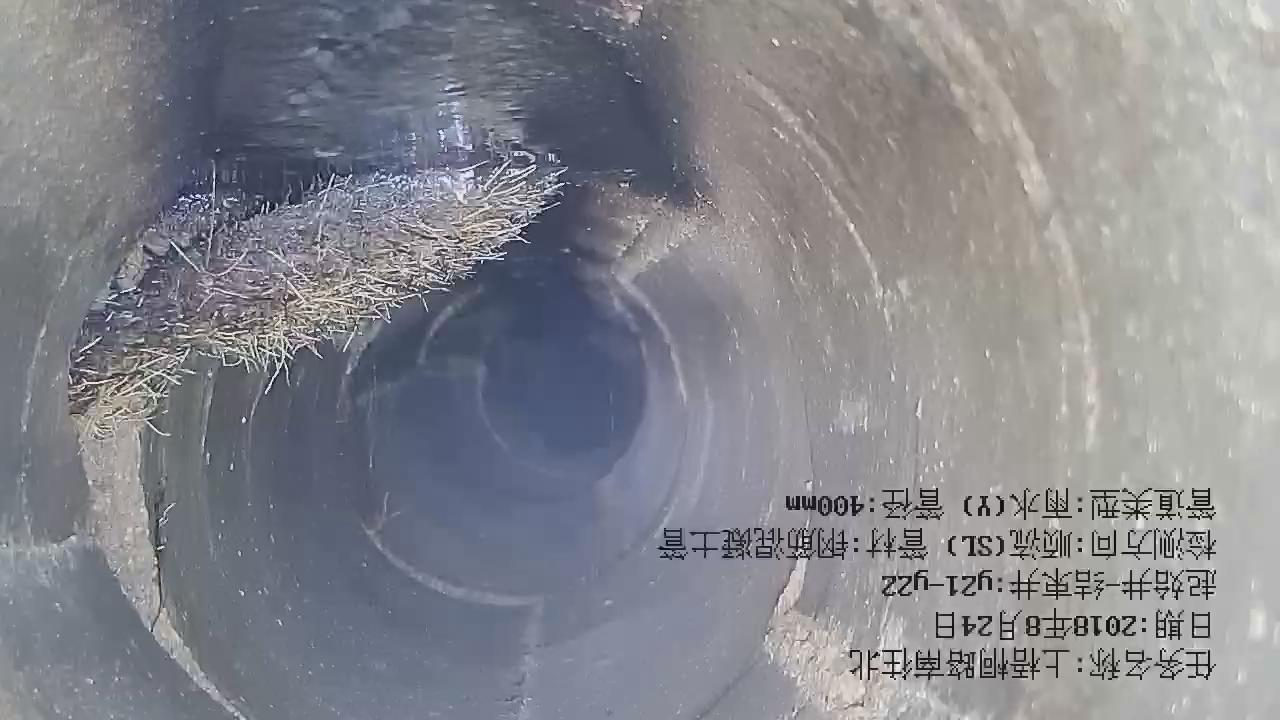CKTJ: (60, 339, 248, 719), (354, 514, 556, 608)
SG: (71, 152, 564, 438)
